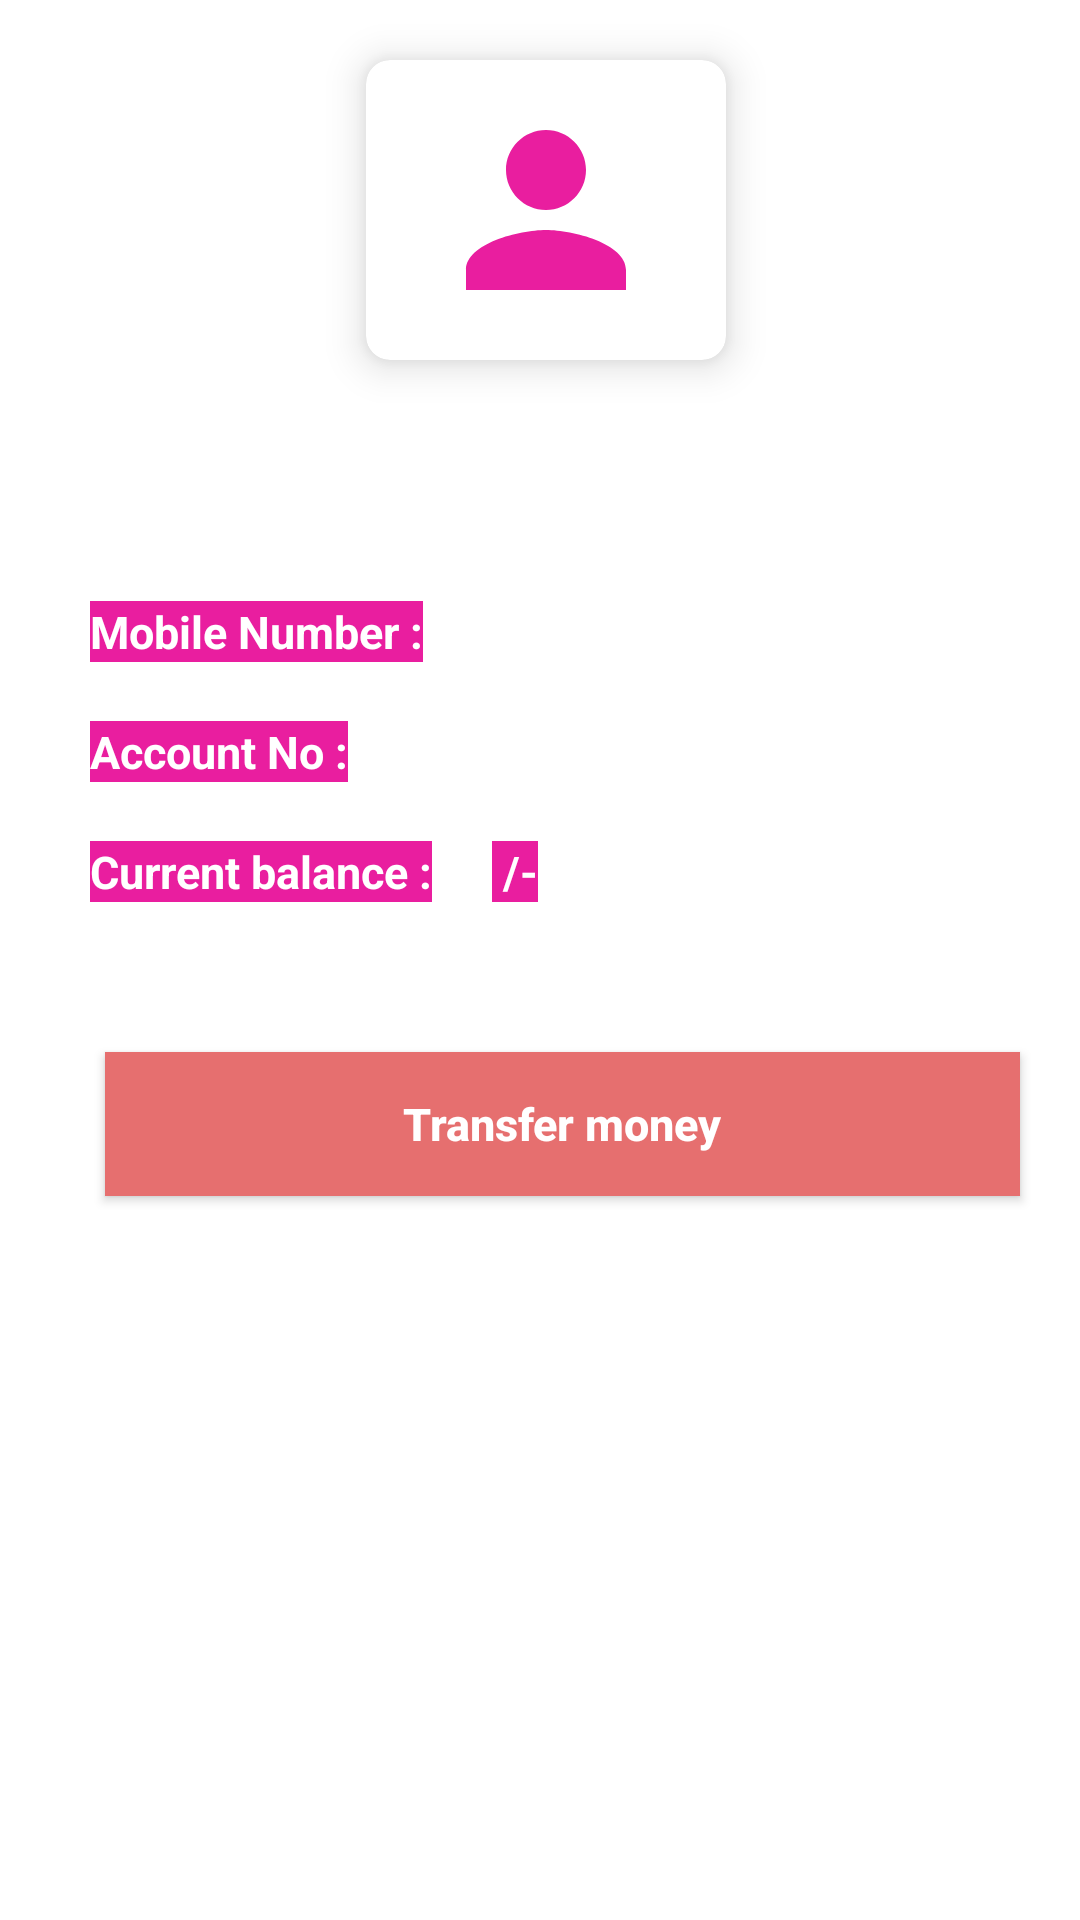

Where icons sit on this 1080w x 1920h app screen, as [x1, y1, x2, y2]:
user: [466, 130, 626, 290]
